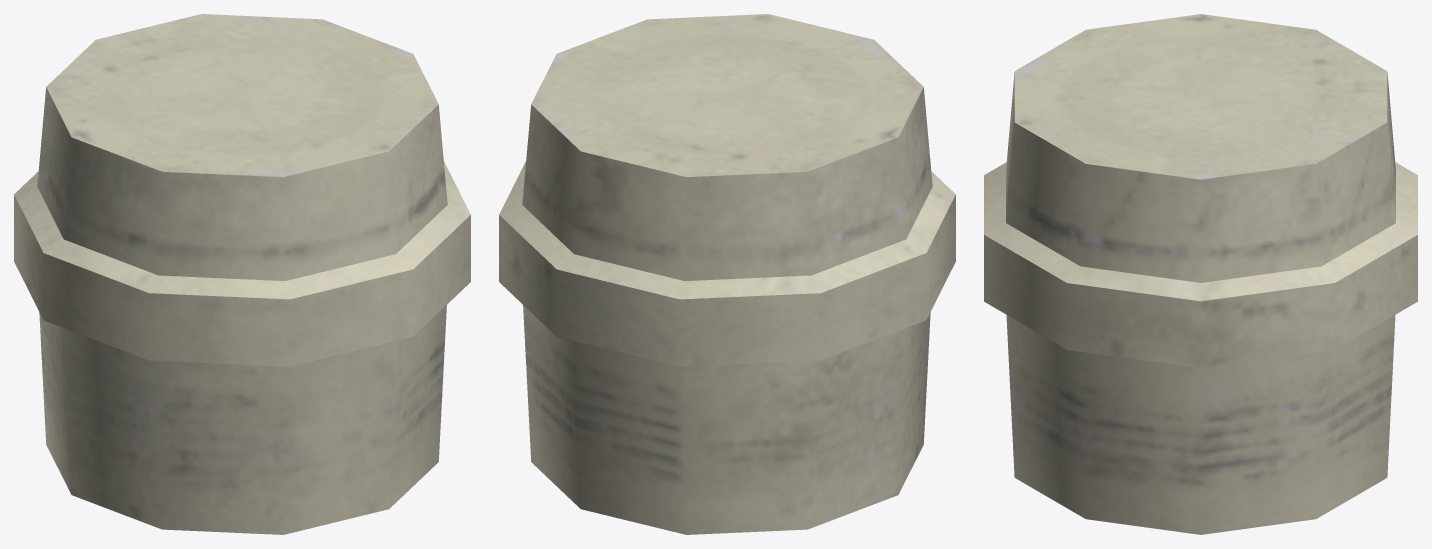
File: SM_Wall_Electrical_Wire_Casing_04b.fbx
The picture shows the model from 3 angles, left to right: view 1: azimuth 30°, elevation 25°; view 2: azimuth 150°, elevation 25°; view 3: azimuth 270°, elevation 25°; orthographic projection.
Visible parts, largest first — view 1: SM_Wall_Electrical_Wire_Casing_04b_LOD0; view 2: SM_Wall_Electrical_Wire_Casing_04b_LOD0; view 3: SM_Wall_Electrical_Wire_Casing_04b_LOD0.
Part boxes in pixels (left/top/right/bottom): SM_Wall_Electrical_Wire_Casing_04b_LOD0: left=14, top=14, right=470, bottom=534; SM_Wall_Electrical_Wire_Casing_04b_LOD0: left=499, top=14, right=955, bottom=534; SM_Wall_Electrical_Wire_Casing_04b_LOD0: left=984, top=14, right=1417, bottom=534.
Size of the model in its own units: 2.49 by 2.37 by 2.14.
